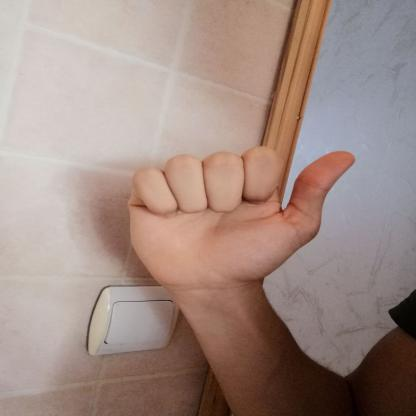DAD: (112, 137, 368, 298)
